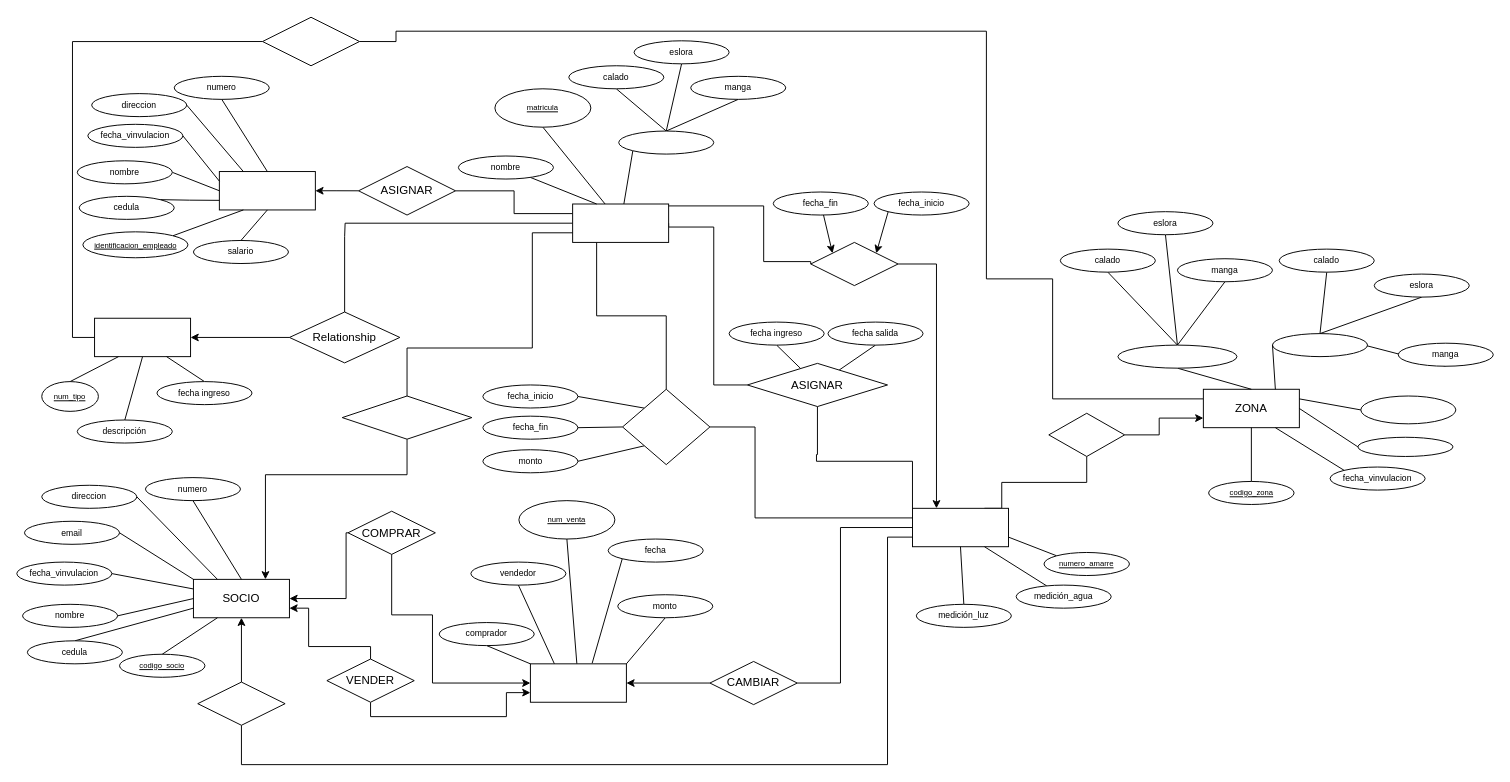
This 1510x782 diagram has some shape labels left out. The shapes that lost their labels are listed below. From the top down, each one's centre as x and y in pixels, then its label:
At (311,41): "CONTENER".
At (666,142): "dimenciones".
At (266,190): "EMPLEADO".
At (620,222): "YATE".
At (854,263): "ALQUILAR".
At (142,337): "TIPO DE YATE".
At (1177,356): "dimencion_maxima".
At (1320,345): "dimencion_minima".
At (406,417): "PERTENECER".
At (666,426): "RESERVAR".
At (1408,409): "cuota_administración".
At (1086,434): "ESTAR".
At (1405,446): "capacidad".
At (960,527): "AMARRE".
At (577,682): "VENTA".
At (241,703): "POSEER".
